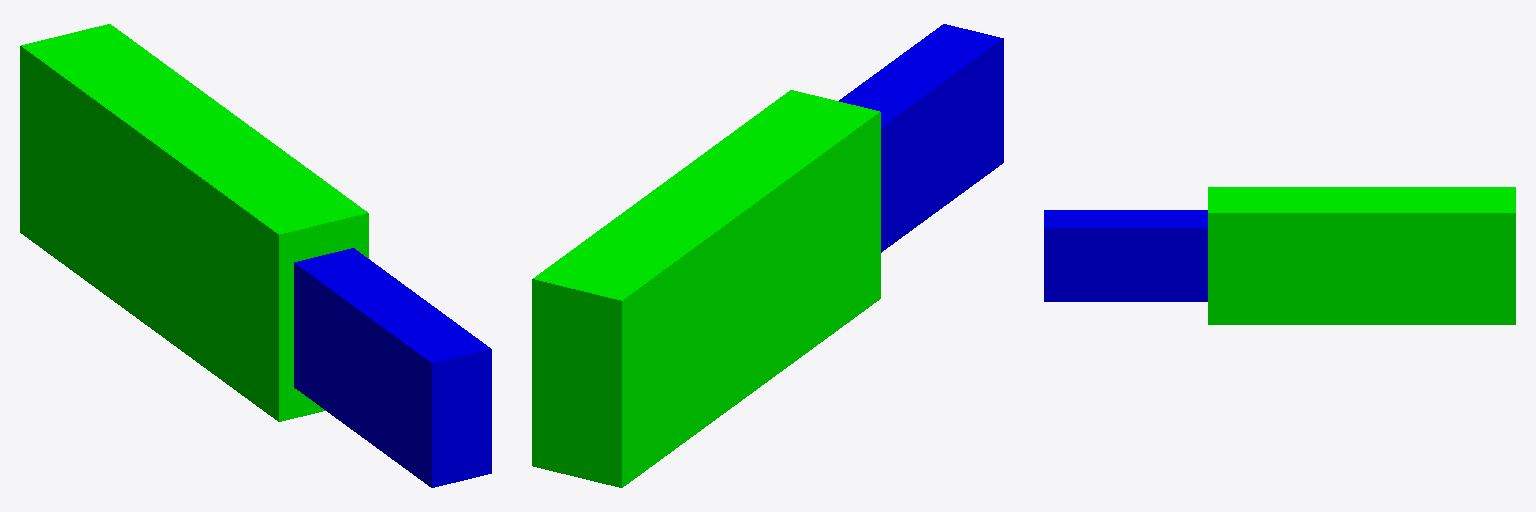
URDF robot description (robot):
<robot name = "robot">
    <link name="root">
        <inertial>
            <origin xyz="0.0 0.0 1.5" rpy="0 0 0"/>
            <mass value="1" />
            <inertia ixx="100" ixy="0" ixz="0" iyy="100" iyz="0" izz="100" />
        </inertial>
        <visual>
            <origin xyz="0.0 0.0 1.5" rpy="0 0 0"/>
            <geometry>
                <box size="0 0 0.0001" />
            </geometry>
            <material name="Green">
                <color rgba="0 1.0 0.0 1.0"/>
            </material>
        </visual>
        <collision>
            <origin xyz="0.0 0.0 1.5" rpy="0 0 0"/>
            <geometry>
                <box size="0 0 0.0001" />
            </geometry>
        </collision>
    </link>
    <joint name="root_000" type="revolute">
       <parent link="root"/>
       <child  link="000"/>
       <origin rpy="0 0 0" xyz="0.0 0.0 1.5" />
     <axis xyz="1 0 0"/>
       <limit effort="0.0" lower="-3.14159" upper="3.14159" velocity="0.0"/>
    </joint>
    <link name="000">
        <inertial>
            <origin xyz="0.0 0.2 0.0" rpy="0 0 0"/>
            <mass value="1" />
            <inertia ixx="100" ixy="0" ixz="0" iyy="100" iyz="0" izz="100" />
        </inertial>
        <visual>
            <origin xyz="0.0 0.2 0.0" rpy="0 0 0"/>
            <geometry>
                <box size="0.2 0.4 0.4" />
            </geometry>
            <material name="Blue">
                <color rgba="0 0.0 1.0 1.0"/>
            </material>
        </visual>
        <collision>
            <origin xyz="0.0 0.2 0.0" rpy="0 0 0"/>
            <geometry>
                <box size="0.2 0.4 0.4" />
            </geometry>
        </collision>
    </link>
    <joint name="000_010" type="revolute">
       <parent link="000"/>
       <child  link="010"/>
       <origin rpy="0 0 0" xyz="0.0 0.4 -0.0" />
     <axis xyz="0 1 0"/>
       <limit effort="0.0" lower="-3.14159" upper="3.14159" velocity="0.0"/>
    </joint>
    <link name="010">
        <inertial>
            <origin xyz="0.0 0.2 -0.0" rpy="0 0 0"/>
            <mass value="1" />
            <inertia ixx="100" ixy="0" ixz="0" iyy="100" iyz="0" izz="100" />
        </inertial>
        <visual>
            <origin xyz="0.0 0.2 -0.0" rpy="0 0 0"/>
            <geometry>
                <box size="0.2 0.4 0.4" />
            </geometry>
            <material name="Blue">
                <color rgba="0 0.0 1.0 1.0"/>
            </material>
        </visual>
        <collision>
            <origin xyz="0.0 0.2 -0.0" rpy="0 0 0"/>
            <geometry>
                <box size="0.2 0.4 0.4" />
            </geometry>
        </collision>
    </link>
    <joint name="010_010-100" type="revolute">
       <parent link="010"/>
       <child  link="010-100"/>
       <origin rpy="0 0 0" xyz="0.0 0.4 -0.0" />
     <axis xyz="0 1 0"/>
       <limit effort="0.0" lower="-3.14159" upper="3.14159" velocity="0.0"/>
    </joint>
    <link name="010-100">
        <inertial>
            <origin xyz="0.0 0.25 -0.0" rpy="0 0 0"/>
            <mass value="1" />
            <inertia ixx="100" ixy="0" ixz="0" iyy="100" iyz="0" izz="100" />
        </inertial>
        <visual>
            <origin xyz="0.0 0.25 -0.0" rpy="0 0 0"/>
            <geometry>
                <box size="0.3 0.5 0.6" />
            </geometry>
            <material name="Green">
                <color rgba="0 1.0 0.0 1.0"/>
            </material>
        </visual>
        <collision>
            <origin xyz="0.0 0.25 -0.0" rpy="0 0 0"/>
            <geometry>
                <box size="0.3 0.5 0.6" />
            </geometry>
        </collision>
    </link>
    <joint name="010-100_010-110" type="revolute">
       <parent link="010-100"/>
       <child  link="010-110"/>
       <origin rpy="0 0 0" xyz="0.0 0.5 -0.0" />
     <axis xyz="0 1 0"/>
       <limit effort="0.0" lower="-3.14159" upper="3.14159" velocity="0.0"/>
    </joint>
    <link name="010-110">
        <inertial>
            <origin xyz="0.0 0.25 -0.0" rpy="0 0 0"/>
            <mass value="1" />
            <inertia ixx="100" ixy="0" ixz="0" iyy="100" iyz="0" izz="100" />
        </inertial>
        <visual>
            <origin xyz="0.0 0.25 -0.0" rpy="0 0 0"/>
            <geometry>
                <box size="0.3 0.5 0.6" />
            </geometry>
            <material name="Green">
                <color rgba="0 1.0 0.0 1.0"/>
            </material>
        </visual>
        <collision>
            <origin xyz="0.0 0.25 -0.0" rpy="0 0 0"/>
            <geometry>
                <box size="0.3 0.5 0.6" />
            </geometry>
        </collision>
    </link>
    <joint name="010-110_010-120" type="revolute">
       <parent link="010-110"/>
       <child  link="010-120"/>
       <origin rpy="0 0 0" xyz="0.0 0.5 -0.0" />
     <axis xyz="0 1 0"/>
       <limit effort="0.0" lower="-3.14159" upper="3.14159" velocity="0.0"/>
    </joint>
    <link name="010-120">
        <inertial>
            <origin xyz="0.0 0.25 -0.0" rpy="0 0 0"/>
            <mass value="1" />
            <inertia ixx="100" ixy="0" ixz="0" iyy="100" iyz="0" izz="100" />
        </inertial>
        <visual>
            <origin xyz="0.0 0.25 -0.0" rpy="0 0 0"/>
            <geometry>
                <box size="0.3 0.5 0.6" />
            </geometry>
            <material name="Green">
                <color rgba="0 1.0 0.0 1.0"/>
            </material>
        </visual>
        <collision>
            <origin xyz="0.0 0.25 -0.0" rpy="0 0 0"/>
            <geometry>
                <box size="0.3 0.5 0.6" />
            </geometry>
        </collision>
    </link>
</robot>

--- What the picture shows (computed from the rendered views, not written in the file) ---
3 views of the same robot in one strip: view 1: azimuth 30°, elevation 25°; view 2: azimuth 150°, elevation 25°; view 3: azimuth 270°, elevation 25° (orthographic).
Robot: robot — 6 links, 5 joints (5 revolute); root link root; default pose: every joint at zero.
Visible links, largest first — view 1: 010-100, 010-120, 010-110, 000, 010; view 2: 010-120, 010-100, 010-110, 000, 010; view 3: 010-100, 010-120, 010-110, 000, 010.
Link boxes in pixels (bbox=[...]): 010-100: bbox=[193, 150, 368, 421]; 010-120: bbox=[20, 24, 195, 295]; 010-110: bbox=[107, 87, 281, 358]; 000: bbox=[363, 298, 491, 487]; 010: bbox=[294, 248, 421, 437]; 010-120: bbox=[532, 216, 707, 487]; 010-100: bbox=[705, 90, 880, 361]; 010-110: bbox=[619, 153, 793, 424]; 000: bbox=[876, 24, 1003, 212]; 010: bbox=[839, 74, 934, 252]; 010-100: bbox=[1208, 187, 1310, 324]; 010-120: bbox=[1413, 187, 1515, 324]; 010-110: bbox=[1311, 187, 1412, 324]; 000: bbox=[1044, 210, 1125, 301]; 010: bbox=[1126, 210, 1207, 301].
Bounding box of the posed robot: 0.3 × 2.3 × 0.6 m (x, y, z).
Geometry: primitives only (box / cylinder / sphere), no mesh files.
